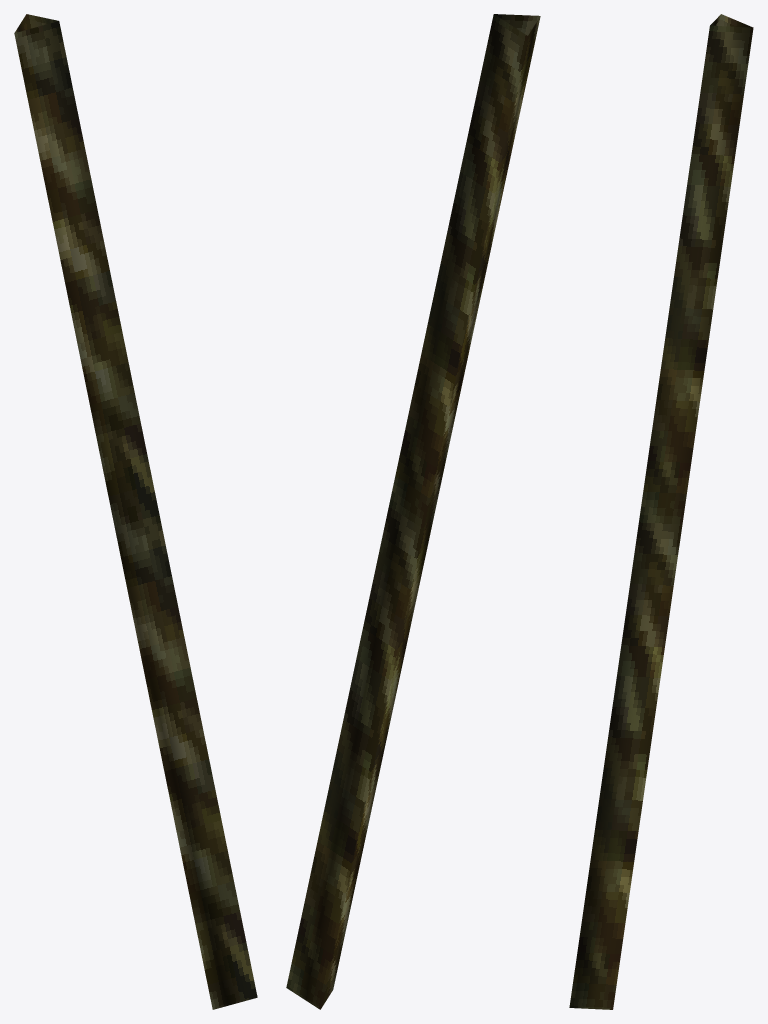
Rendered from OVERHILL_A_01_ROPE_LINE_19.fbx.
The picture shows the model from 3 angles, left to right: view 1: azimuth 30°, elevation 25°; view 2: azimuth 210°, elevation 25°; view 3: azimuth 270°, elevation 25°; orthographic projection. The views are drawn at different scales.
Visible parts, largest first — view 1: OVERHILL_A_01_ROPE_LINE_19; view 2: OVERHILL_A_01_ROPE_LINE_19; view 3: OVERHILL_A_01_ROPE_LINE_19.
Boxes of the visible parts, x1,y1,x2,y2 form: OVERHILL_A_01_ROPE_LINE_19: (14, 14, 257, 1009); OVERHILL_A_01_ROPE_LINE_19: (286, 14, 540, 1009); OVERHILL_A_01_ROPE_LINE_19: (569, 14, 753, 1009).
Bounding box in the file's own units: 1905 × 10614 × 1905.
1 material, 1 textured.
